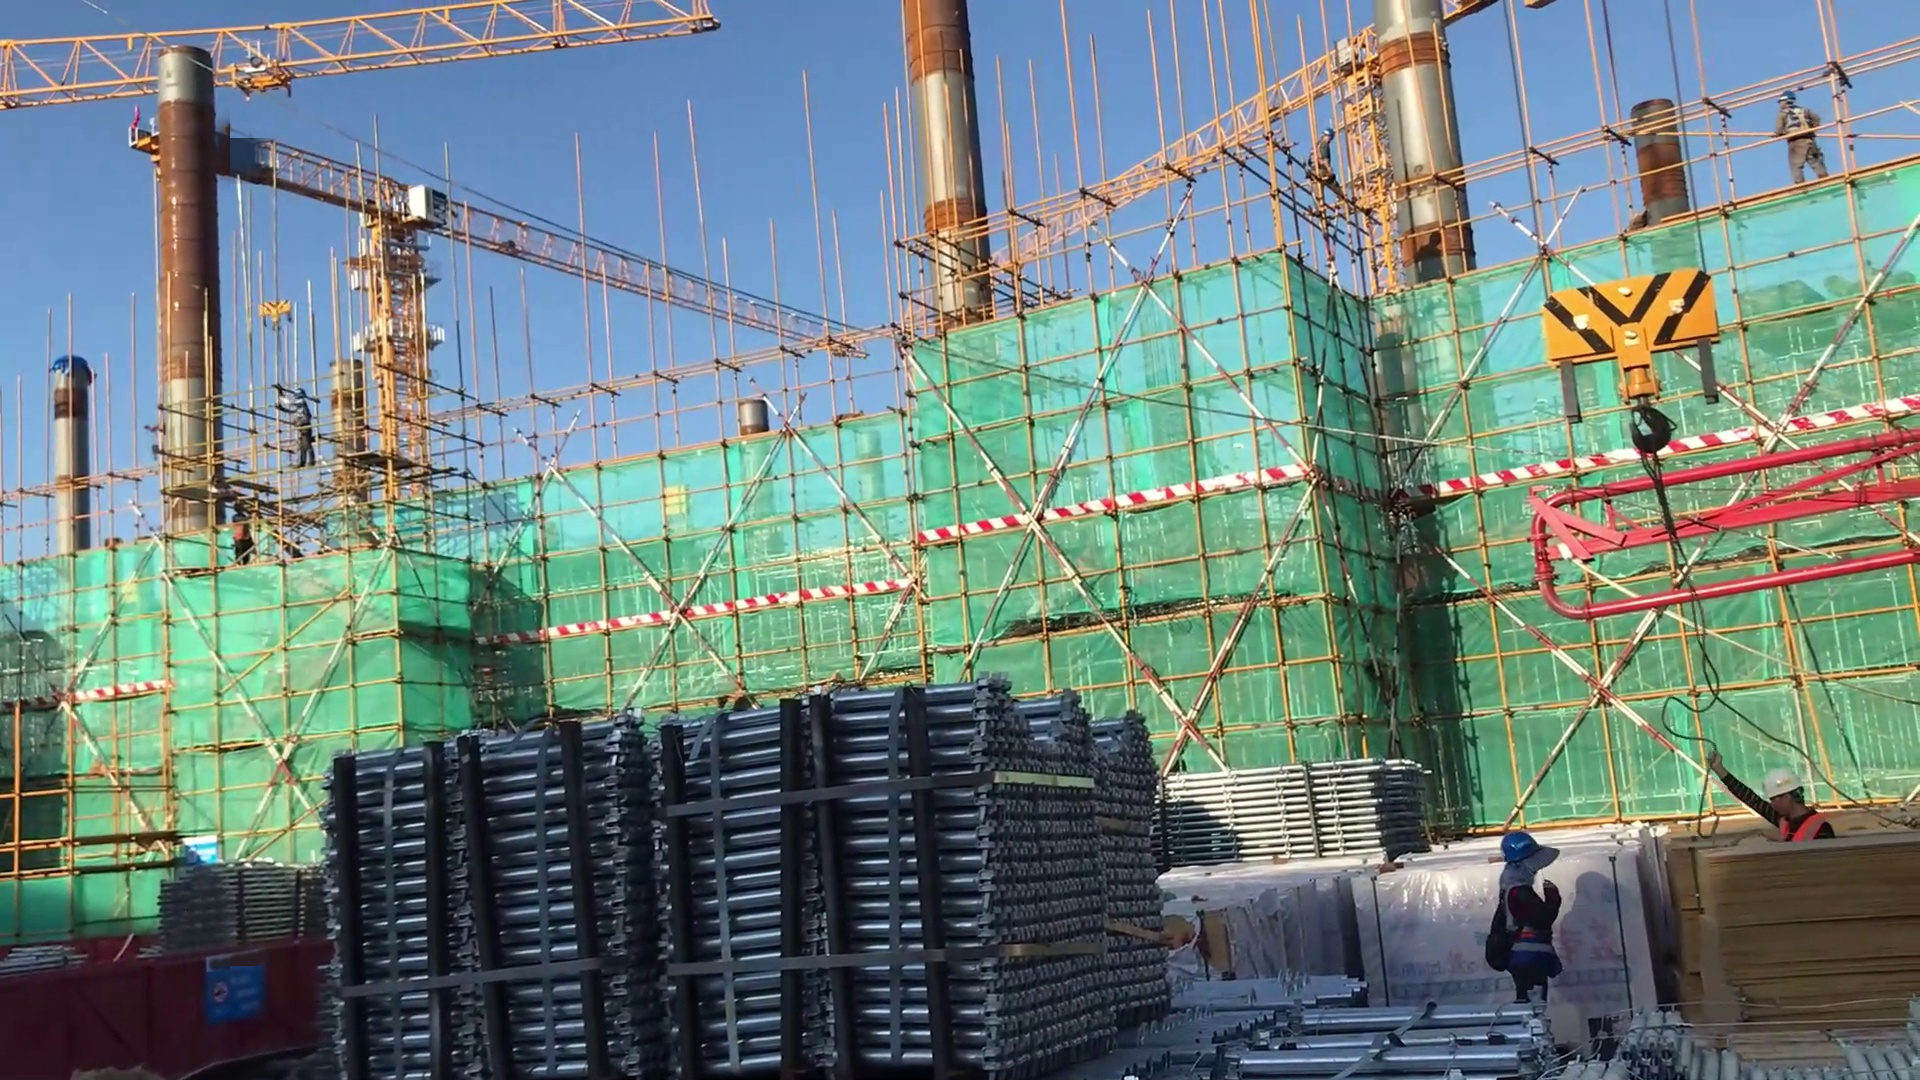board: (1659, 823, 1920, 1025)
fence: (1, 932, 313, 1076)
helmet: (1501, 824, 1560, 874), (1767, 762, 1814, 821), (1775, 86, 1806, 112), (292, 386, 312, 403)
hook: (1515, 264, 1793, 557), (1526, 270, 1747, 544), (243, 287, 298, 344)
person: (1486, 823, 1566, 1037), (1699, 750, 1848, 852), (1773, 74, 1825, 211), (223, 495, 269, 582), (274, 379, 314, 474)
scaffold: (319, 666, 1184, 1076), (1173, 964, 1583, 1080), (1137, 760, 1468, 864), (144, 852, 327, 962), (1611, 1019, 1920, 1075)
slogan: (202, 955, 270, 1027), (170, 828, 230, 869)
vest: (1490, 878, 1564, 980), (1772, 816, 1835, 850), (1782, 108, 1813, 133)
